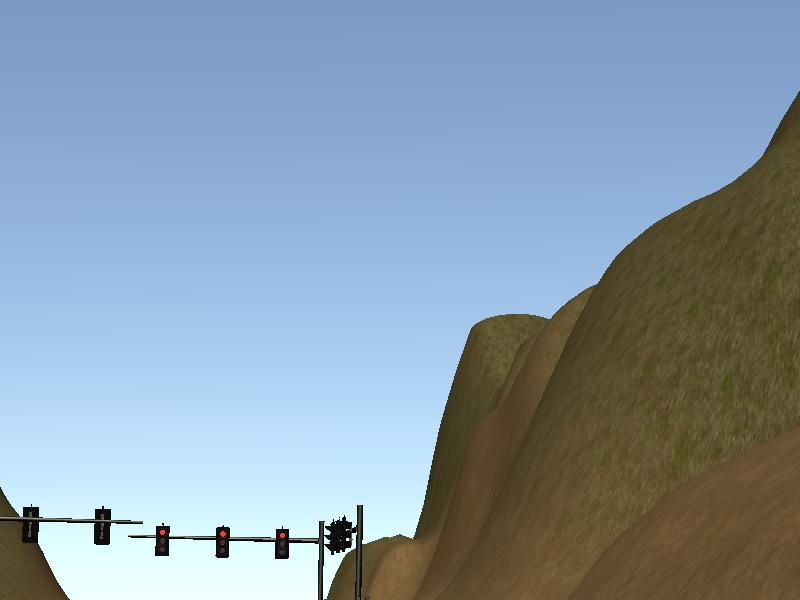red: (213, 527, 229, 559), (274, 527, 288, 559), (155, 527, 169, 555)
